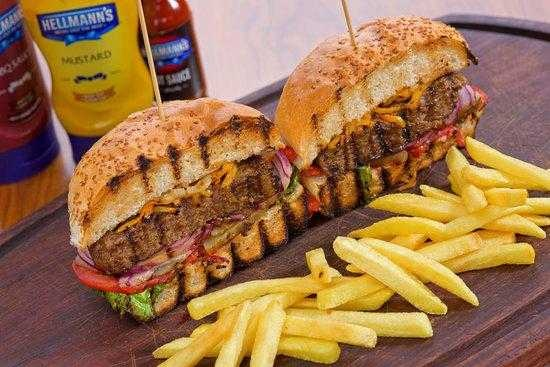hamburger: (91, 84, 281, 320), (289, 10, 496, 212)
